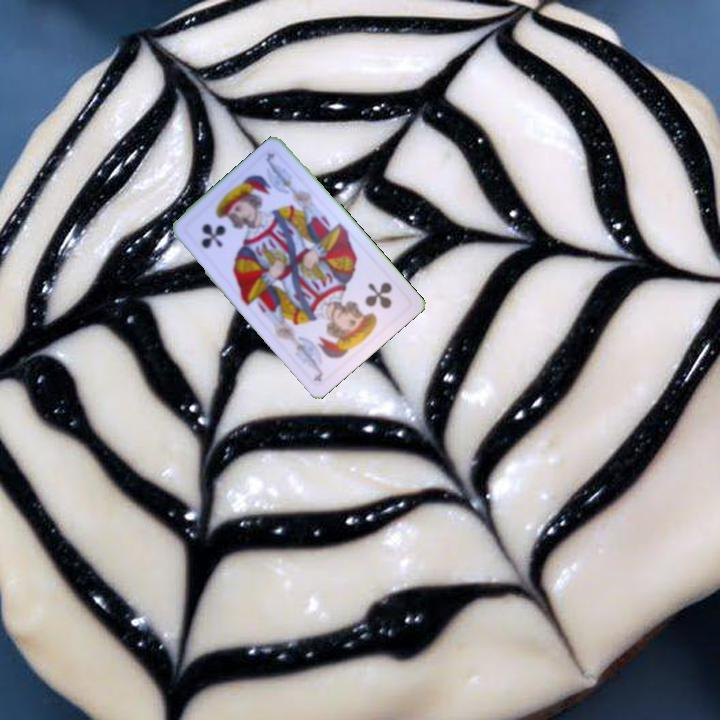c_j.png: (180, 186, 266, 271), (327, 262, 413, 347)
